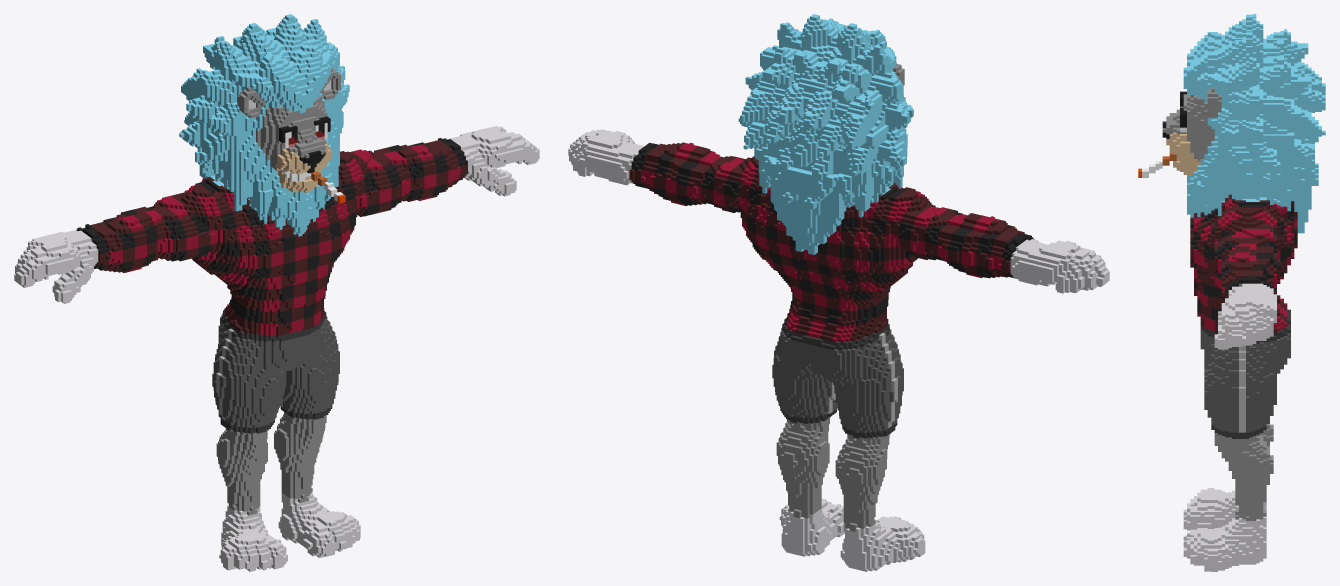
The model's file is 602-CGd0Rpp8.fbx.
3 renders of one model, left to right at view 1: azimuth 30°, elevation 25°; view 2: azimuth 150°, elevation 25°; view 3: azimuth 270°, elevation 25°, orthographic. The views are drawn at different scales.
Parts seen in each view (by area): view 1: cigarette; view 2: cigarette; view 3: cigarette.
Boxes of the visible parts, x1,y1,x2,y2 form: cigarette: (14,14,539,571); cigarette: (568,14,1109,571); cigarette: (1138,14,1325,571).
Size of the model in its own units: 17.2 by 16.5 by 5.4.
Materials: 5 (5 with a texture image).
